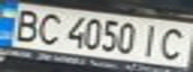0: (81, 16, 106, 52), (115, 20, 139, 55)
4: (60, 14, 87, 50)
5: (100, 17, 121, 54)
B: (6, 7, 45, 43)
C: (154, 25, 193, 62), (33, 10, 66, 46)
I: (136, 21, 166, 59)
